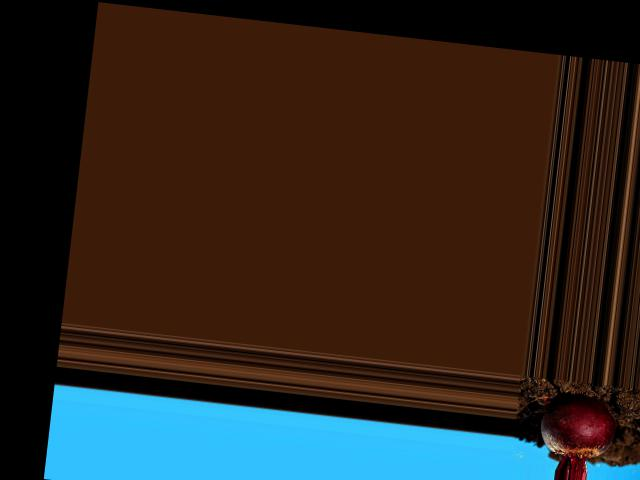beet: (535, 390, 618, 476)
